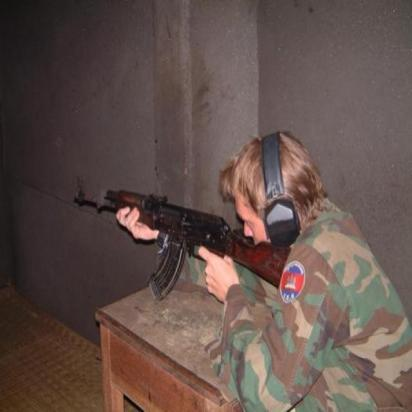Gun: (68, 172, 288, 308)
